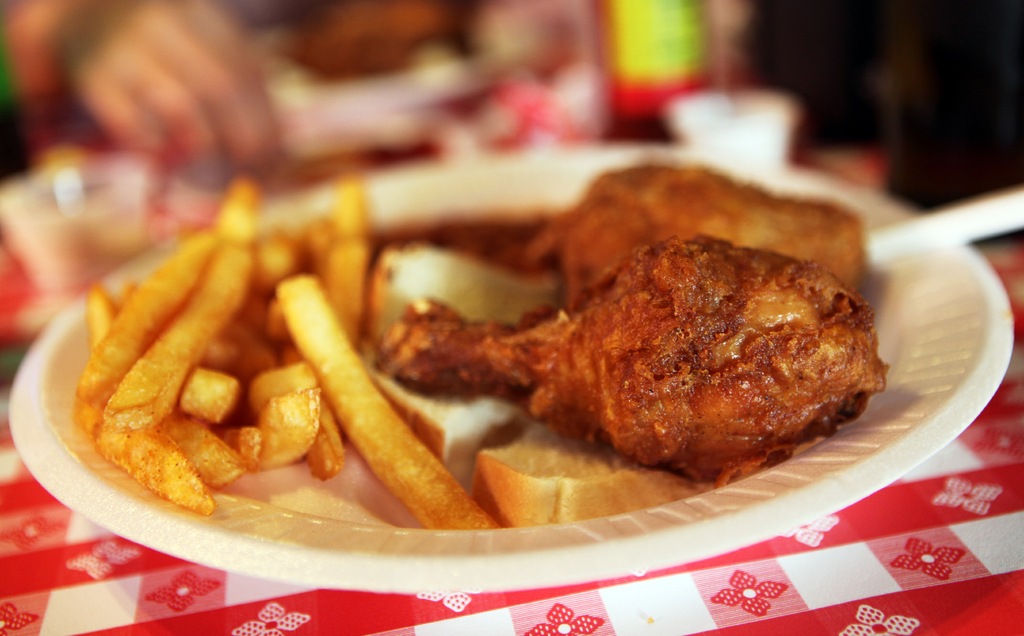French fries: (39, 147, 492, 539)
